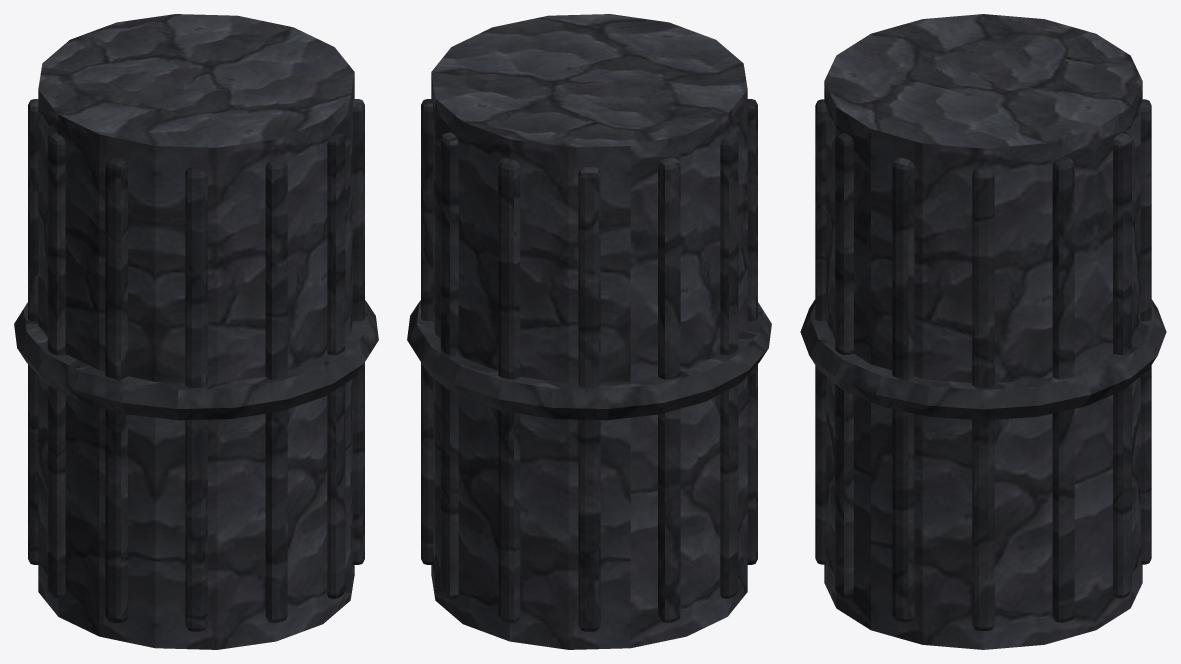
Rendered from column_shaft__basalt.glb.
3 renders of one model, left to right at view 1: azimuth 30°, elevation 25°; view 2: azimuth 150°, elevation 25°; view 3: azimuth 270°, elevation 25°, orthographic.
Visible parts, largest first — view 1: model; view 2: model; view 3: model.
Part boxes in pixels (left/top/right/bottom): model: left=14, top=14, right=378, bottom=649; model: left=407, top=14, right=771, bottom=649; model: left=800, top=14, right=1166, bottom=649.
Bounding box in the file's own units: 0.662 × 1 × 0.662.
Materials: 2 (2 with a texture image).
